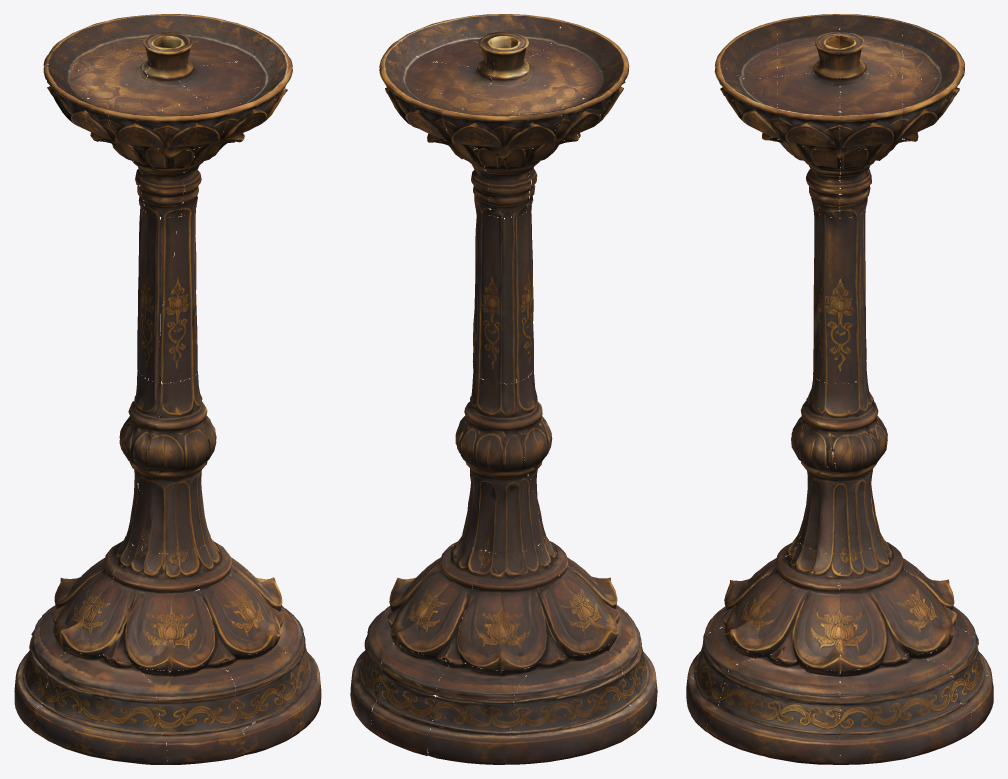
The model's file is hi3d-candle.glb.
3 renders of one model, left to right at view 1: azimuth 30°, elevation 25°; view 2: azimuth 150°, elevation 25°; view 3: azimuth 270°, elevation 25°, orthographic.
Visible parts, largest first — view 1: candle; view 2: candle; view 3: candle.
Boxes of the visible parts, <box> form: candle: <box>14,14,321,764</box>; candle: <box>350,14,657,764</box>; candle: <box>686,14,993,764</box>.
Bounding box in the file's own units: 0.5921 × 1.4 × 0.5914.
1 material, 1 textured.
